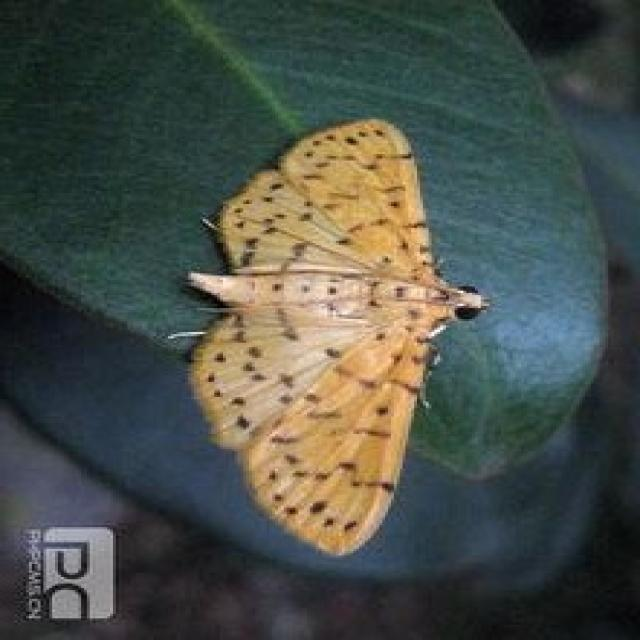peach borer: (175, 118, 493, 565)
